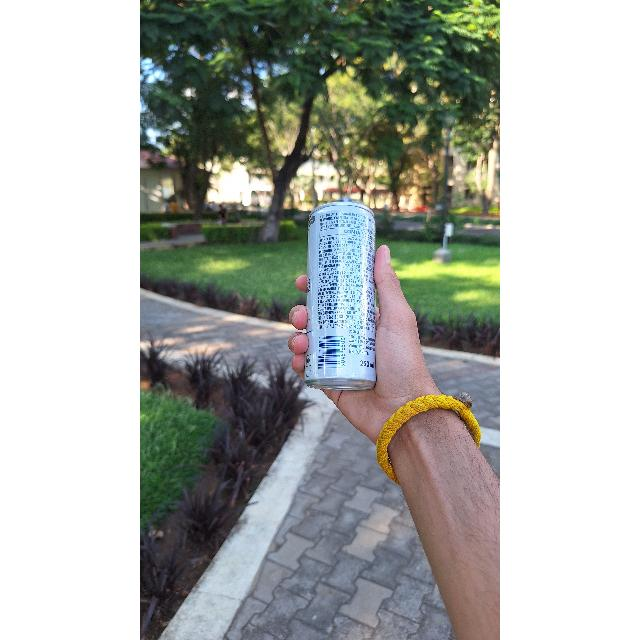Redbull Summer Edition: (298, 198, 384, 386)
